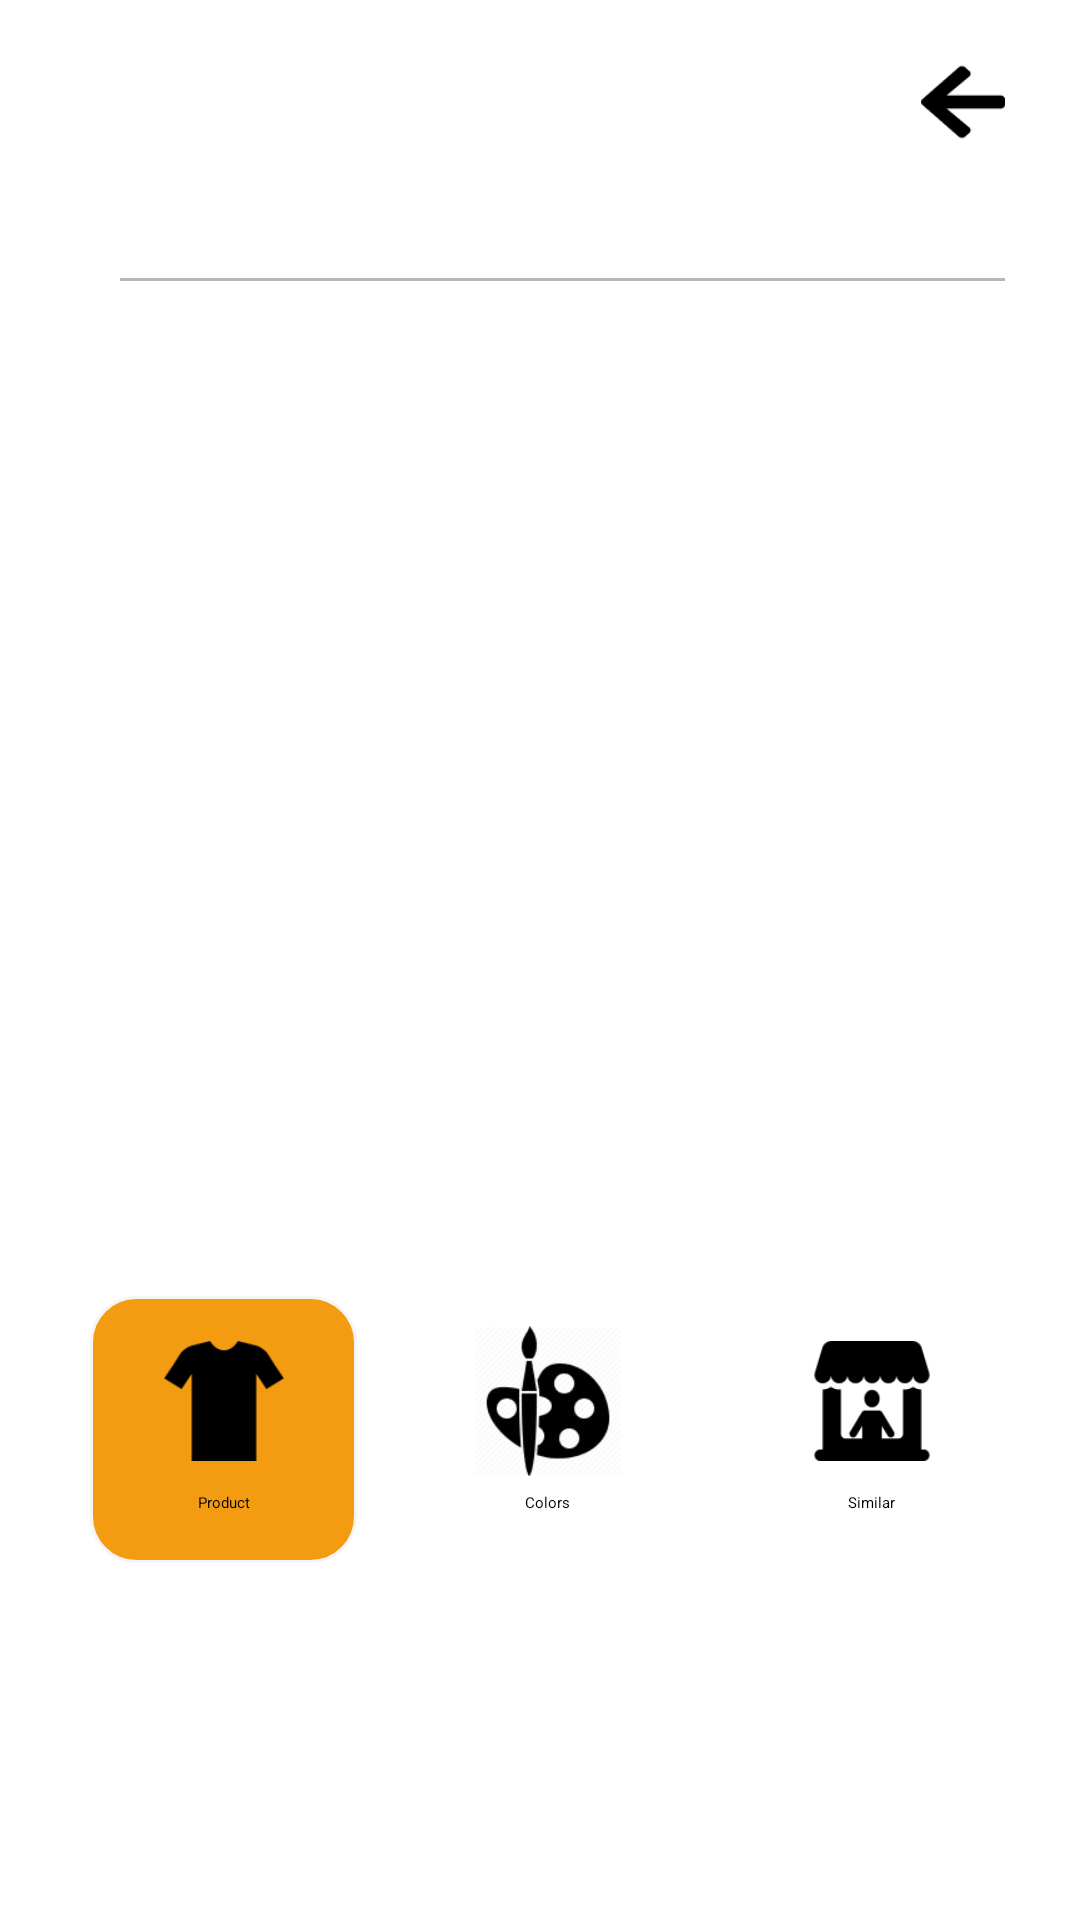

Icon bounding boxes for this 1080×1920 phone screenshot, format (x1, y1, x2, y2):
Back Button: (921, 65, 1005, 139)
